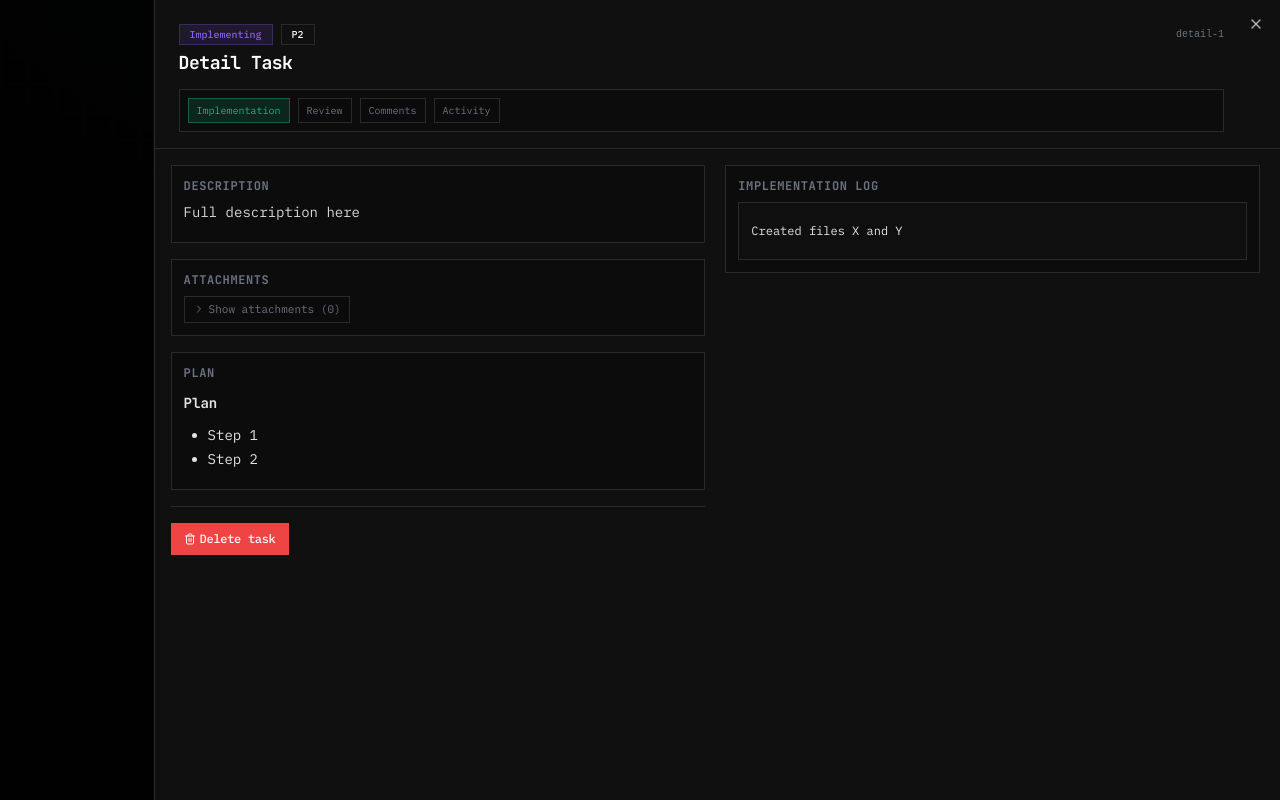
Test: TaskDetail › should render agent activity timeline
Click the button "Activity" at (467, 110), box [434, 98, 500, 123]
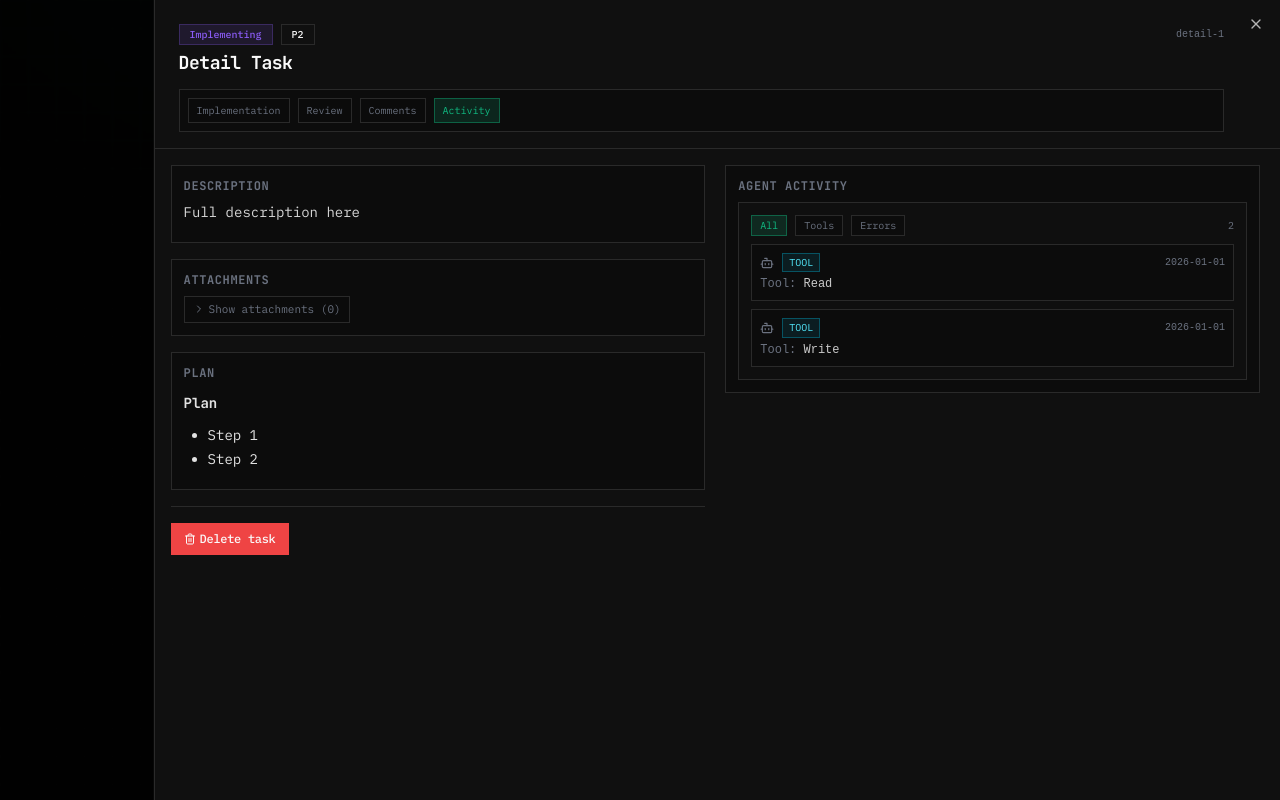
Result: the text "Read" is shown at [804, 277, 832, 291]
Result: the text "Write" is shown at [804, 343, 840, 357]
Result: the 1st text "TOOL" is shown at [782, 253, 820, 272]
